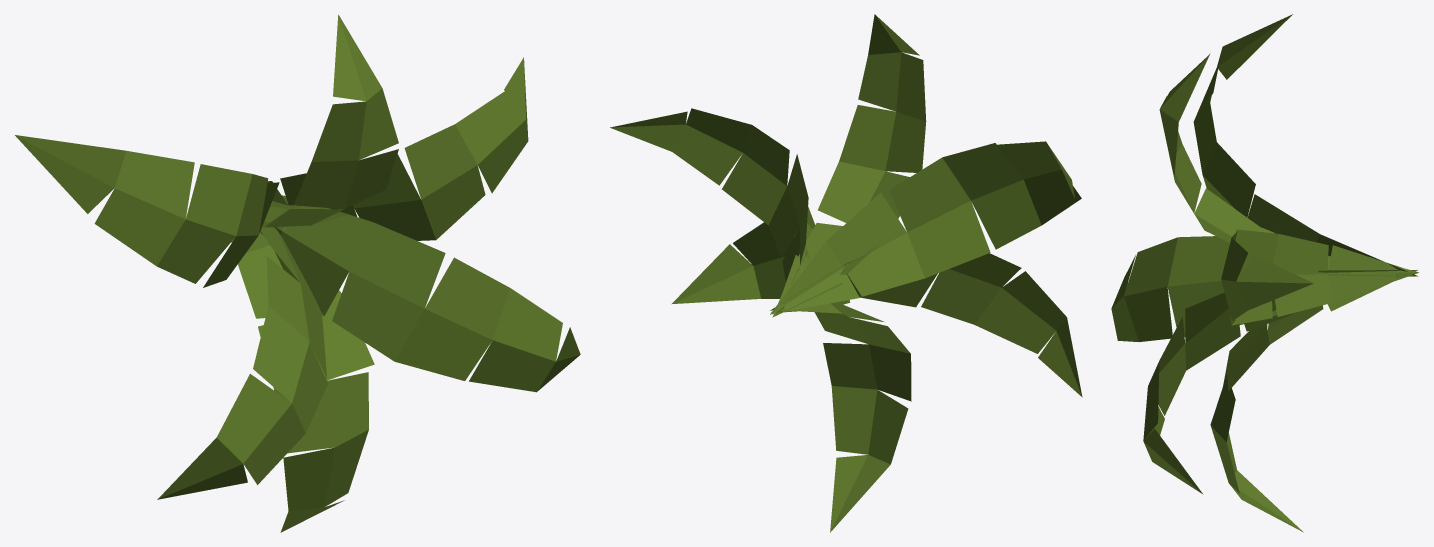
Rendered from Fern.glb.
3 renders of one model, left to right at view 1: azimuth 30°, elevation 25°; view 2: azimuth 150°, elevation 25°; view 3: azimuth 270°, elevation 25°, orthographic. The views are drawn at different scales.
Parts seen in each view (by area): view 1: Fern; view 2: Fern; view 3: Fern.
Boxes of the visible parts, x1=… form: Fern: x1=15, y1=14, x2=580, y2=532; Fern: x1=610, y1=14, x2=1082, y2=532; Fern: x1=1111, y1=14, x2=1418, y2=532.
Bounding box in the file's own units: 1.66 × 1.7 × 0.9863.
Materials: 1 (1 with a texture image).
